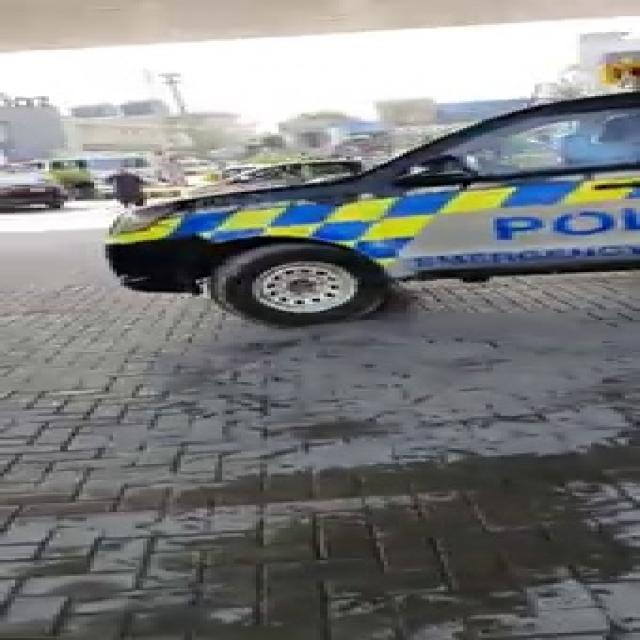police: (0, 54, 634, 323)
